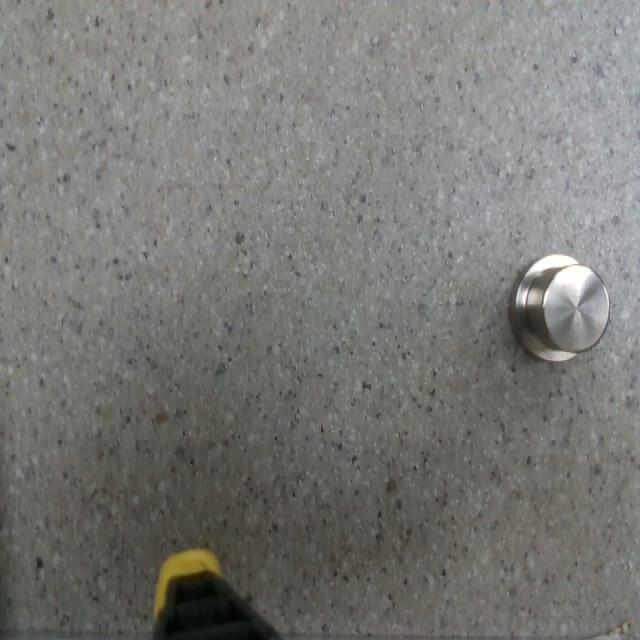sensor: (507, 253, 608, 363)
